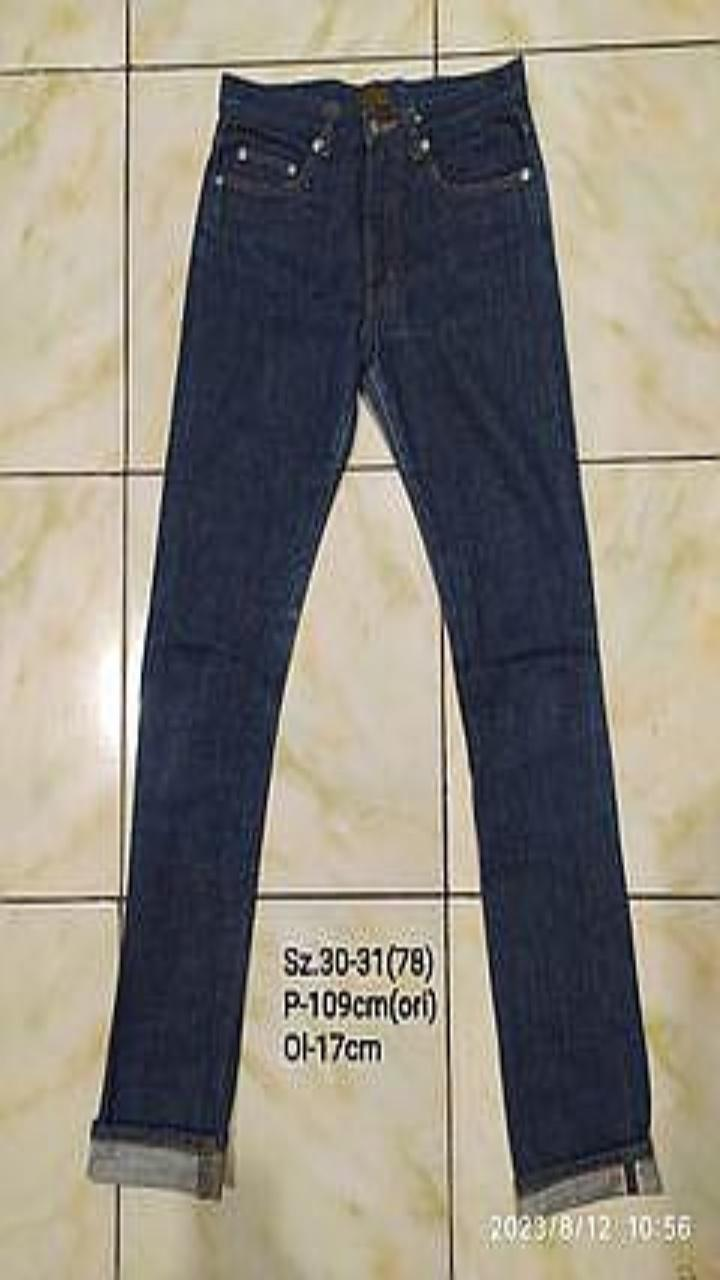Jeans: (88, 56, 661, 1213)
